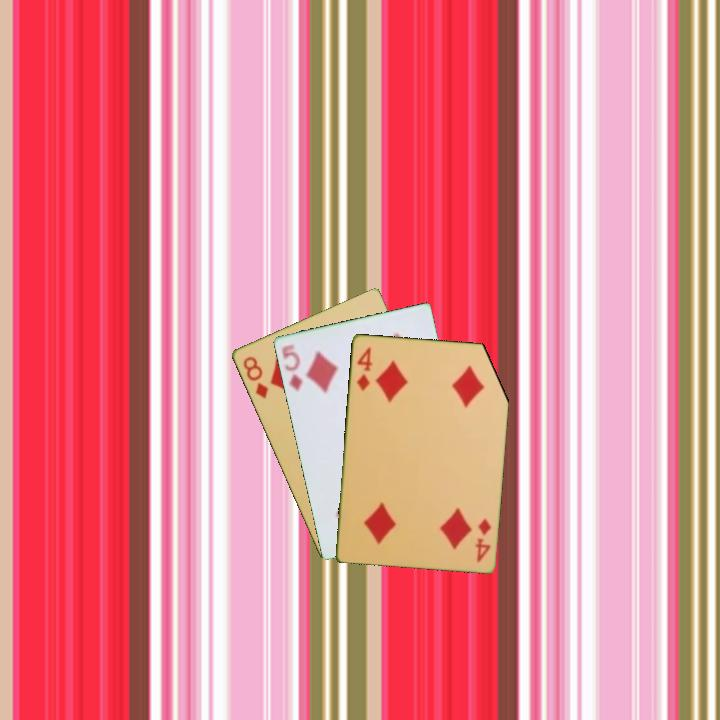4d: (353, 343, 375, 393), (471, 515, 493, 565)
5d: (278, 340, 305, 394)
8d: (239, 353, 271, 401)
